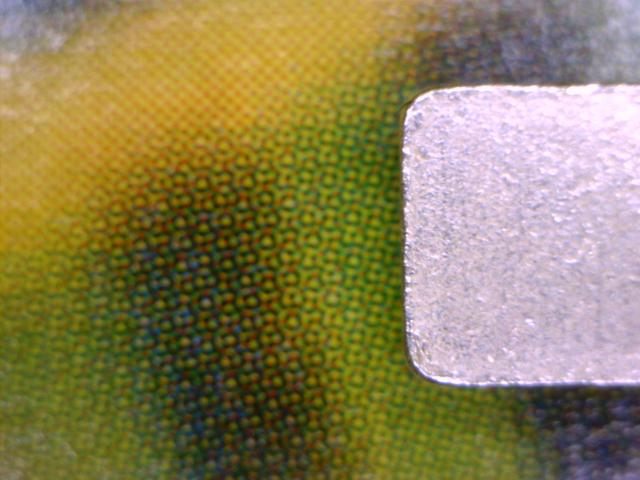ok: (387, 75, 640, 393)
